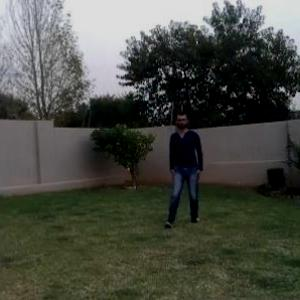follow: (162, 103, 205, 228)
